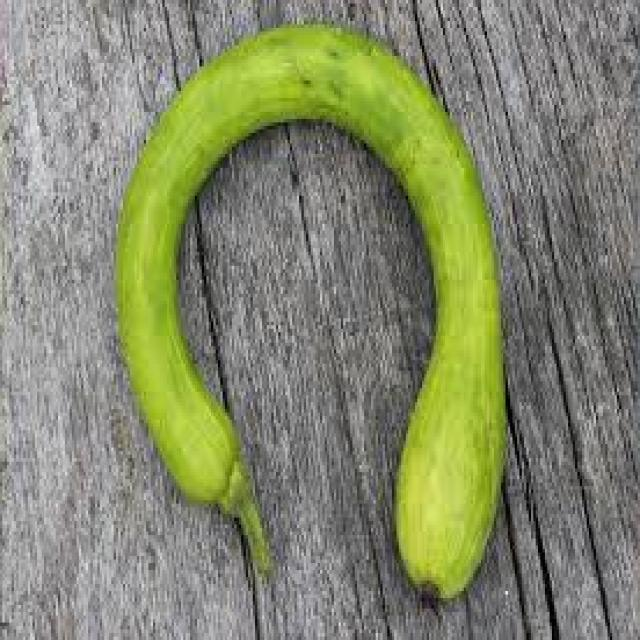Organik: (71, 8, 582, 624)
